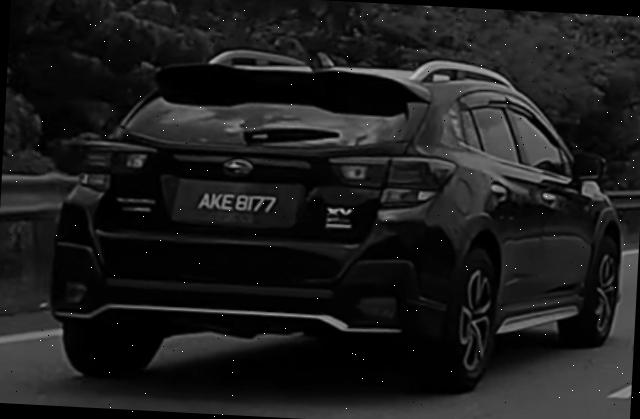License_Plate: (190, 184, 283, 222)
car: (43, 38, 634, 406)
